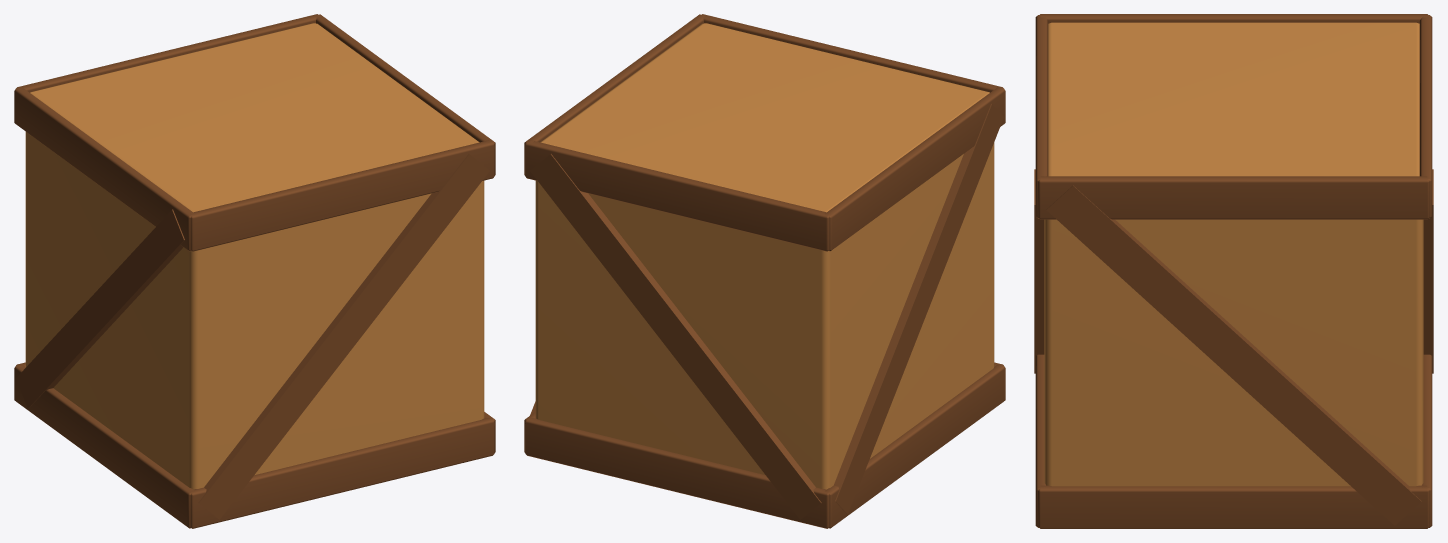
The model's file is Crate.fbx.
The picture shows the model from 3 angles, left to right: view 1: azimuth 30°, elevation 25°; view 2: azimuth 150°, elevation 25°; view 3: azimuth 270°, elevation 25°; orthographic projection. The views are drawn at different scales.
Parts seen in each view (by area): view 1: Crate; view 2: Crate; view 3: Crate.
Part boxes in pixels (x1=…): Crate: x1=14, y1=14, x2=495, y2=528; Crate: x1=524, y1=14, x2=1005, y2=528; Crate: x1=1034, y1=14, x2=1433, y2=528.
Bounding box in the file's own units: 3.16 × 3.05 × 3.16.
1 material, 1 textured.
